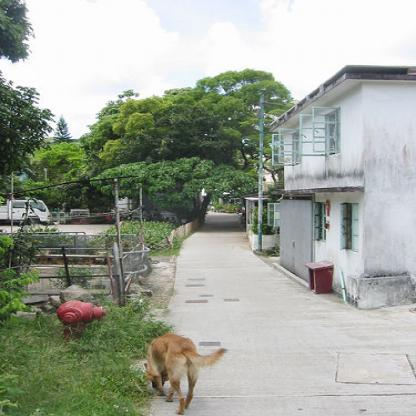dog: (143, 333, 228, 415)
